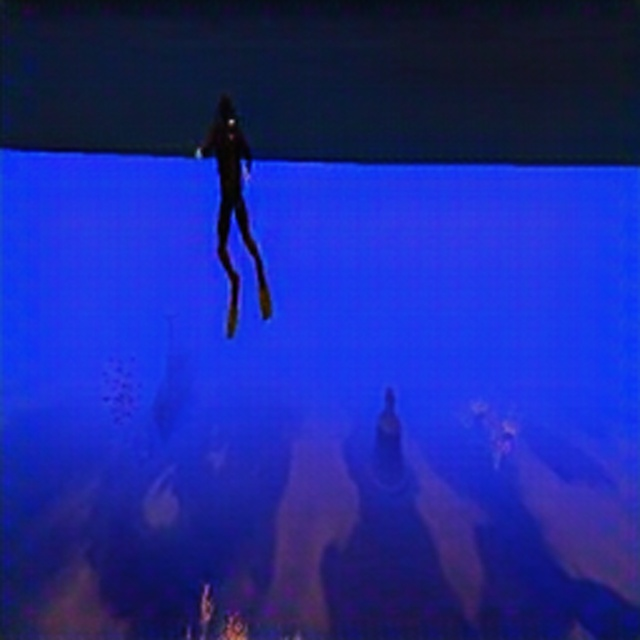diver: (194, 92, 273, 339)
